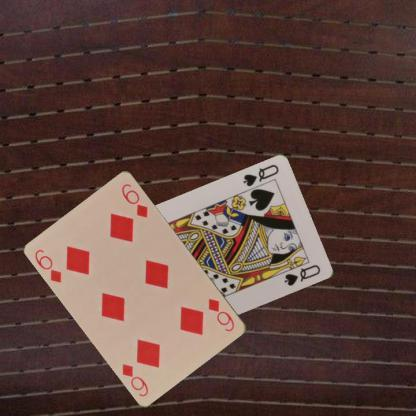6d: (32, 247, 64, 284), (206, 296, 236, 334)
Qs: (240, 162, 281, 188)
